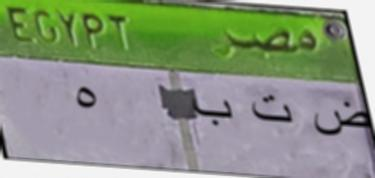5: (72, 81, 100, 118)
baa: (190, 92, 238, 132)
daad: (309, 92, 368, 145)
taa: (247, 89, 294, 131)
